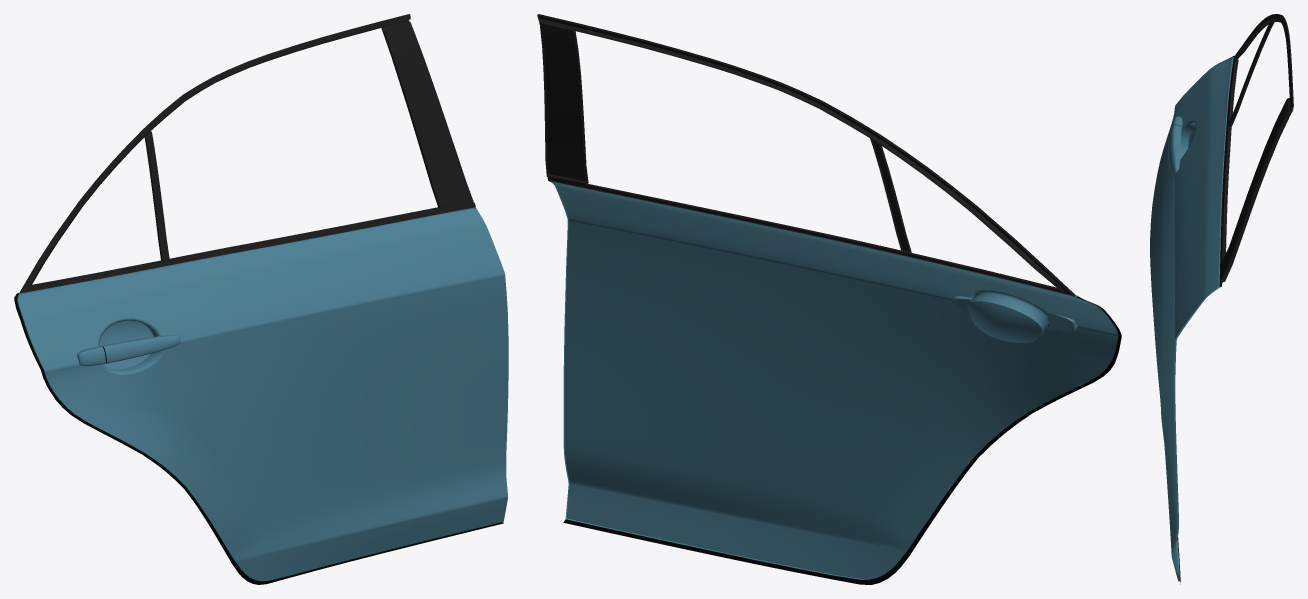
3 renders of one model, left to right at view 1: azimuth 30°, elevation 25°; view 2: azimuth 150°, elevation 25°; view 3: azimuth 270°, elevation 25°, orthographic. The views are drawn at different scales.
Visible parts, largest first — view 1: Y175_18_321B_R_1_DaS_Y175_18_321B_R, Y175_18_321B_R_Y175_18_321B_R_2_D, Y175_18_321B_R_Y175_18_321B_R_3_D, Y175_18_321B_R_1_DaS_Y175_18_321B_R_E; view 2: Y175_18_321B_R_1_DaS_Y175_18_321B_R, Y175_18_321B_R_Y175_18_321B_R_2_D, Y175_18_321B_R_Y175_18_321B_R_3_D, Y175_18_321B_R_1_DaS_Y175_18_321B_R_E; view 3: Y175_18_321B_R_1_DaS_Y175_18_321B_R, Y175_18_321B_R_Y175_18_321B_R_2_D, Y175_18_321B_R_1_DaS_Y175_18_321B_R_E.
Boxes of the visible parts, left/top/right/bottom form: Y175_18_321B_R_1_DaS_Y175_18_321B_R: left=18, top=208, right=508, bottom=581; Y175_18_321B_R_Y175_18_321B_R_2_D: left=19, top=14, right=475, bottom=293; Y175_18_321B_R_Y175_18_321B_R_3_D: left=14, top=293, right=503, bottom=584; Y175_18_321B_R_1_DaS_Y175_18_321B_R_E: left=17, top=207, right=475, bottom=572; Y175_18_321B_R_1_DaS_Y175_18_321B_R: left=553, top=182, right=1118, bottom=578; Y175_18_321B_R_Y175_18_321B_R_2_D: left=537, top=14, right=1075, bottom=296; Y175_18_321B_R_Y175_18_321B_R_3_D: left=563, top=296, right=1121, bottom=584; Y175_18_321B_R_1_DaS_Y175_18_321B_R_E: left=549, top=181, right=1100, bottom=579; Y175_18_321B_R_1_DaS_Y175_18_321B_R: left=1150, top=57, right=1232, bottom=573; Y175_18_321B_R_Y175_18_321B_R_2_D: left=1219, top=14, right=1293, bottom=286; Y175_18_321B_R_1_DaS_Y175_18_321B_R_E: left=1170, top=57, right=1233, bottom=581.
Size of the model in its own units: 118 by 114 by 32.25.
